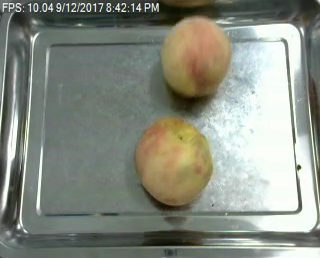Peach: (135, 115, 213, 206), (160, 16, 231, 97)
